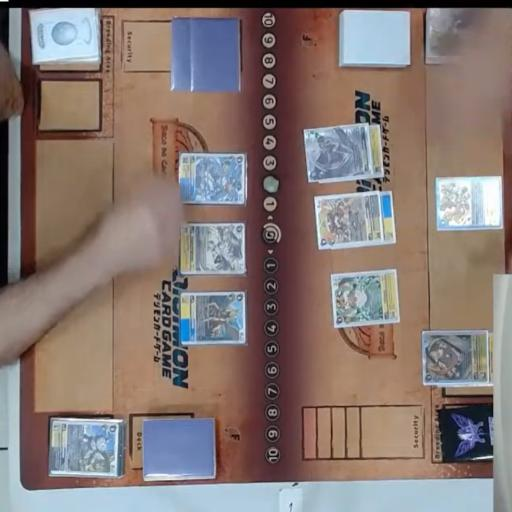card: (48, 416, 123, 481), (433, 172, 507, 234), (313, 190, 382, 252), (331, 268, 402, 328), (416, 329, 489, 385), (177, 151, 248, 206), (301, 124, 368, 182), (180, 222, 247, 279), (178, 292, 248, 346), (369, 123, 389, 183), (382, 190, 402, 247)
